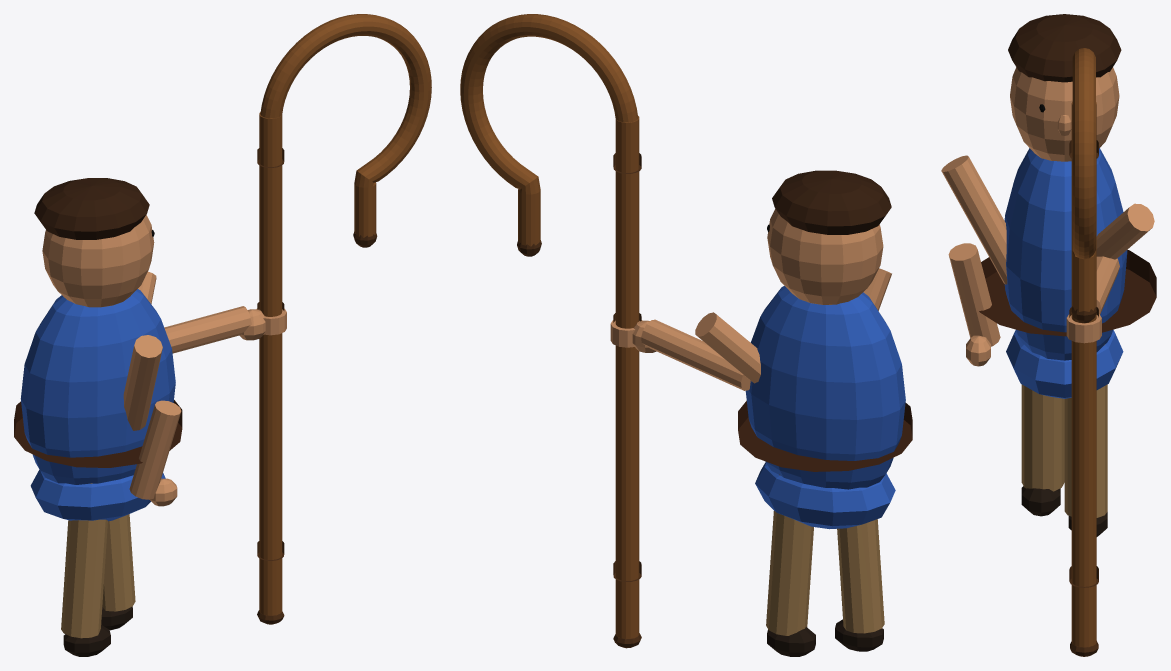
File: shepherd_boy_holding_staff_usual_hook.obj
3 views of the same model, side by side, from view 1: azimuth 30°, elevation 25°; view 2: azimuth 150°, elevation 25°; view 3: azimuth 270°, elevation 25° (orthographic). The views are drawn at different scales.
Visible parts, largest first — view 1: torso_tunic, held_staff_straight_shaft, held_staff_usual_shepherd_crook_hook, head, hair_cap, left_leg, tunic_lower, left_forearm, right_leg, left_upper_arm, right_forearm_to_staff, belt (+1 smaller); view 2: torso_tunic, held_staff_straight_shaft, held_staff_usual_shepherd_crook_hook, head, hair_cap, tunic_lower, right_leg, left_leg, belt, right_forearm_to_staff, right_upper_arm, right_boot (+1 smaller); view 3: torso_tunic, held_staff_straight_shaft, held_staff_usual_shepherd_crook_hook, head, hair_cap, left_leg, belt, left_upper_arm, tunic_lower, left_forearm, right_leg, right_upper_arm (+4 smaller).
Boxes of the visible parts, left/top/right/bottom form: torso_tunic: left=20, top=289, right=175, bottom=484; held_staff_straight_shaft: left=259, top=112, right=282, bottom=615; held_staff_usual_shepherd_crook_hook: left=260, top=14, right=431, bottom=237; head: left=42, top=215, right=154, bottom=307; hair_cap: left=34, top=178, right=149, bottom=239; left_leg: left=61, top=483, right=107, bottom=638; tunic_lower: left=30, top=469, right=165, bottom=521; left_forearm: left=129, top=400, right=181, bottom=499; right_leg: left=102, top=514, right=135, bottom=611; left_upper_arm: left=123, top=335, right=162, bottom=430; right_forearm_to_staff: left=164, top=306, right=251, bottom=353; belt: left=14, top=400, right=182, bottom=467; torso_tunic: left=745, top=286, right=905, bottom=489; held_staff_straight_shaft: left=615, top=116, right=639, bottom=638; held_staff_usual_shepherd_crook_hook: left=460, top=14, right=638, bottom=246; head: left=767, top=209, right=883, bottom=304; hair_cap: left=772, top=170, right=891, bottom=234; tunic_lower: left=755, top=462, right=895, bottom=529; right_leg: left=766, top=474, right=813, bottom=635; left_leg: left=837, top=519, right=884, bottom=633; belt: left=738, top=401, right=912, bottom=471; right_forearm_to_staff: left=641, top=319, right=750, bottom=390; right_upper_arm: left=695, top=312, right=760, bottom=383; right_boot: left=767, top=627, right=815, bottom=656; torso_tunic: left=1004, top=148, right=1127, bottom=360; held_staff_straight_shaft: left=1071, top=102, right=1096, bottom=647; held_staff_usual_shepherd_crook_hook: left=1072, top=48, right=1095, bottom=311; head: left=1010, top=67, right=1119, bottom=161; hair_cap: left=1008, top=14, right=1121, bottom=82; left_leg: left=1021, top=384, right=1064, bottom=491; belt: left=979, top=250, right=1156, bottom=336; left_upper_arm: left=941, top=155, right=1007, bottom=284; tunic_lower: left=1006, top=330, right=1123, bottom=398; left_forearm: left=948, top=243, right=1000, bottom=346; right_leg: left=1064, top=344, right=1107, bottom=517; right_upper_arm: left=1096, top=203, right=1154, bottom=259.
Bounding box in the file's own units: 1.33 × 1.79 × 0.5501.
